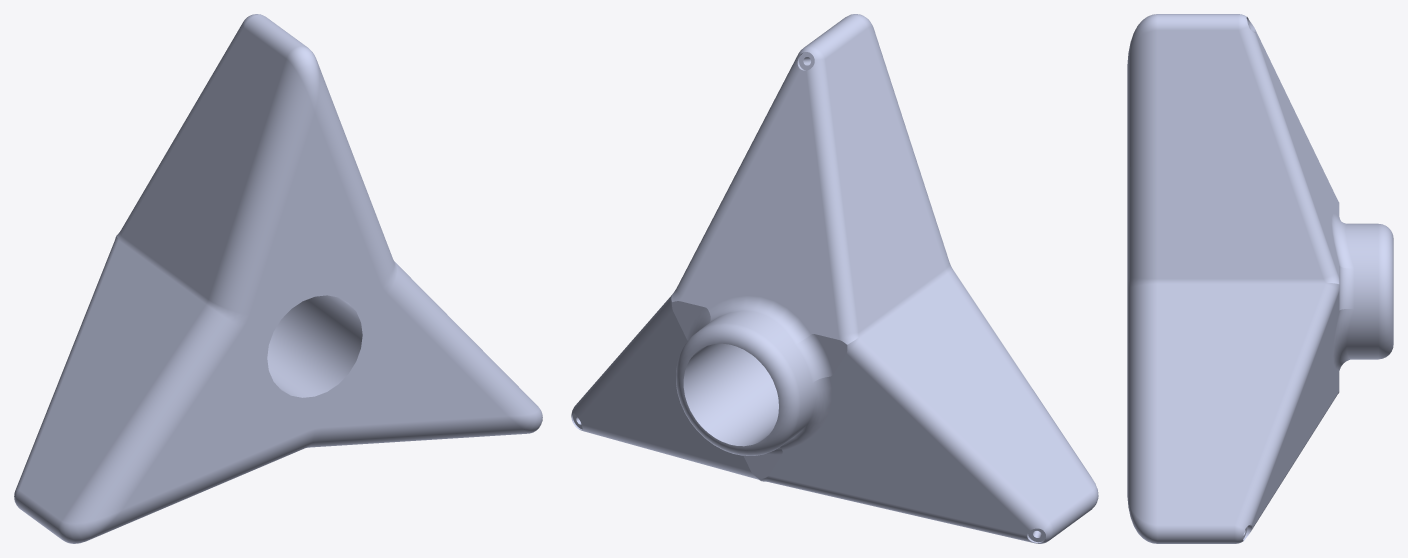
The model's file is Practice6_1.glb.
3 renders of one model, left to right at view 1: azimuth 30°, elevation 25°; view 2: azimuth 150°, elevation 25°; view 3: azimuth 270°, elevation 25°, orthographic. The views are drawn at different scales.
Parts seen in each view (by area): view 1: Practice6; view 2: Practice6; view 3: Practice6.
Part boxes in pixels (<box>): Practice6: <box>14,14,542,543</box>; Practice6: <box>571,14,1098,543</box>; Practice6: <box>1127,14,1393,543</box>.
Bounding box in the file's own units: 0.1758 × 0.1536 × 0.088.
